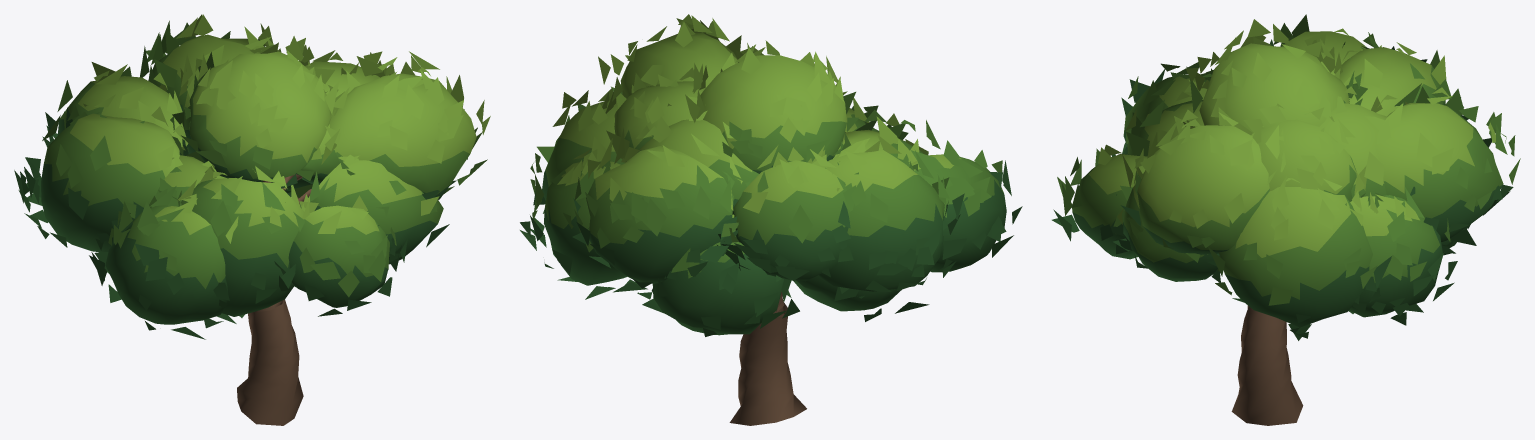
File: OakC.glb
3 renders of one model, left to right at view 1: azimuth 30°, elevation 25°; view 2: azimuth 150°, elevation 25°; view 3: azimuth 270°, elevation 25°, orthographic.
Visible parts, largest first — view 1: OakC.leafLight, OakC.leafMid, OakC.leafDark, OakC.bark; view 2: OakC.leafLight, OakC.leafDark, OakC.leafMid, OakC.bark; view 3: OakC.leafLight, OakC.leafMid, OakC.leafDark, OakC.bark.
Boxes of the visible parts, x1=… form: OakC.leafLight: x1=70, y1=14, x2=490, y2=243; OakC.leafMid: x1=42, y1=20, x2=487, y2=297; OakC.leafDark: x1=14, y1=104, x2=456, y2=339; OakC.bark: x1=237, y1=174, x2=311, y2=425; OakC.leafLight: x1=552, y1=14, x2=961, y2=217; OakC.leafDark: x1=520, y1=155, x2=1022, y2=336; OakC.leafMid: x1=530, y1=84, x2=1003, y2=278; OakC.bark: x1=729, y1=292, x2=806, y2=425; OakC.leafLight: x1=1088, y1=19, x2=1495, y2=257; OakC.leafMid: x1=1057, y1=14, x2=1520, y2=305; OakC.leafDark: x1=1052, y1=39, x2=1513, y2=340; OakC.bark: x1=1231, y1=305, x2=1303, y2=425.
Bounding box in the file's own units: 23.19 × 19.37 × 21.9.
